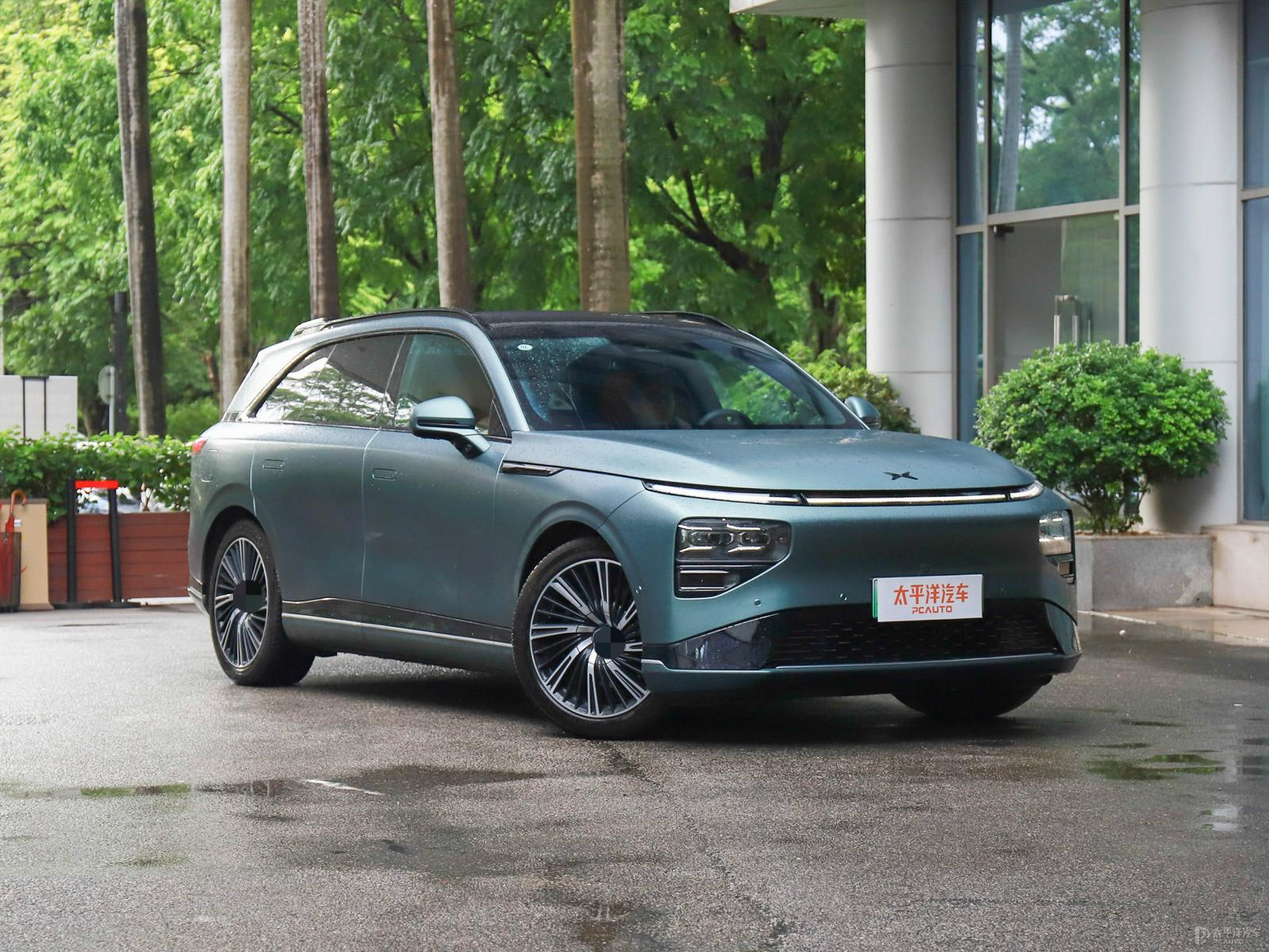XPeng Motors: (883, 471, 918, 480)
